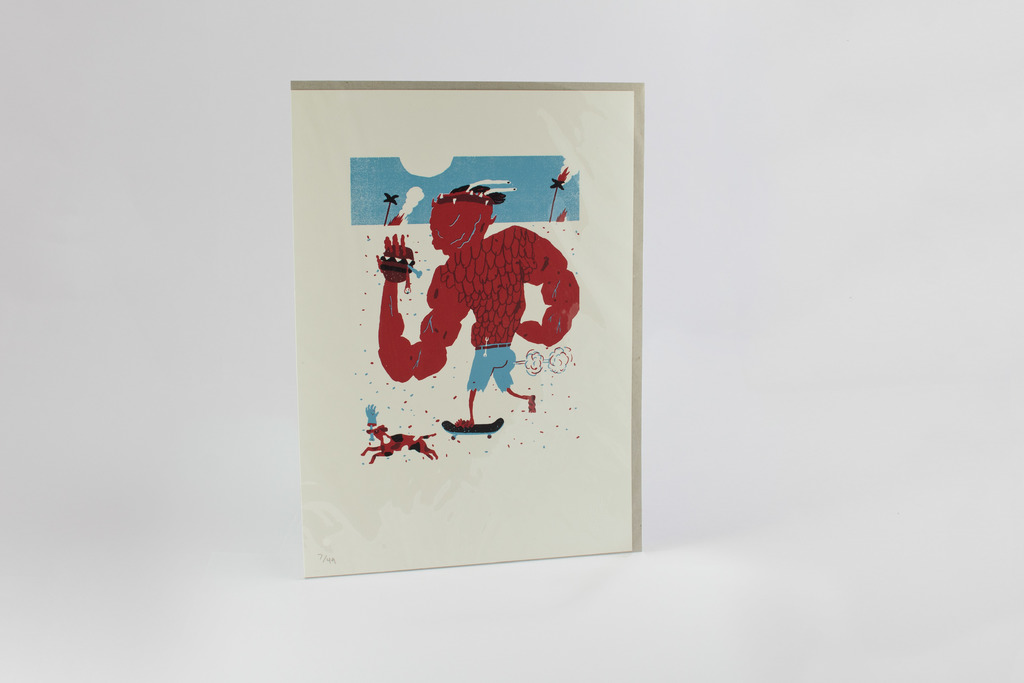person: (379, 186, 582, 432)
